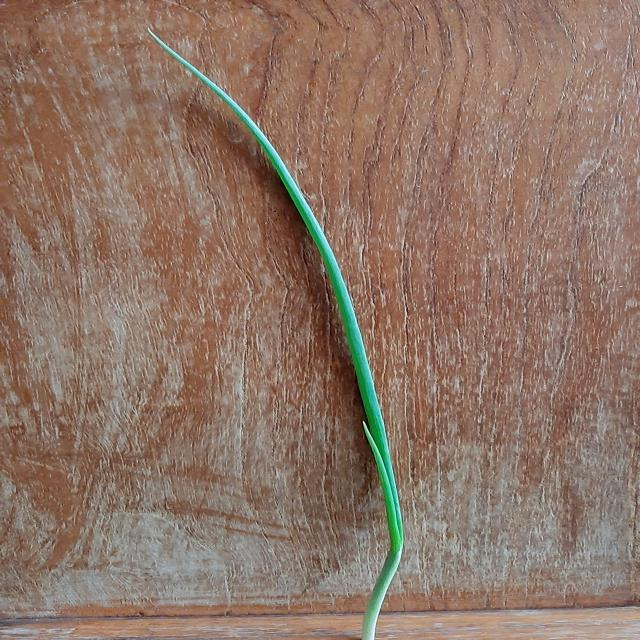onion: (146, 30, 404, 640)
